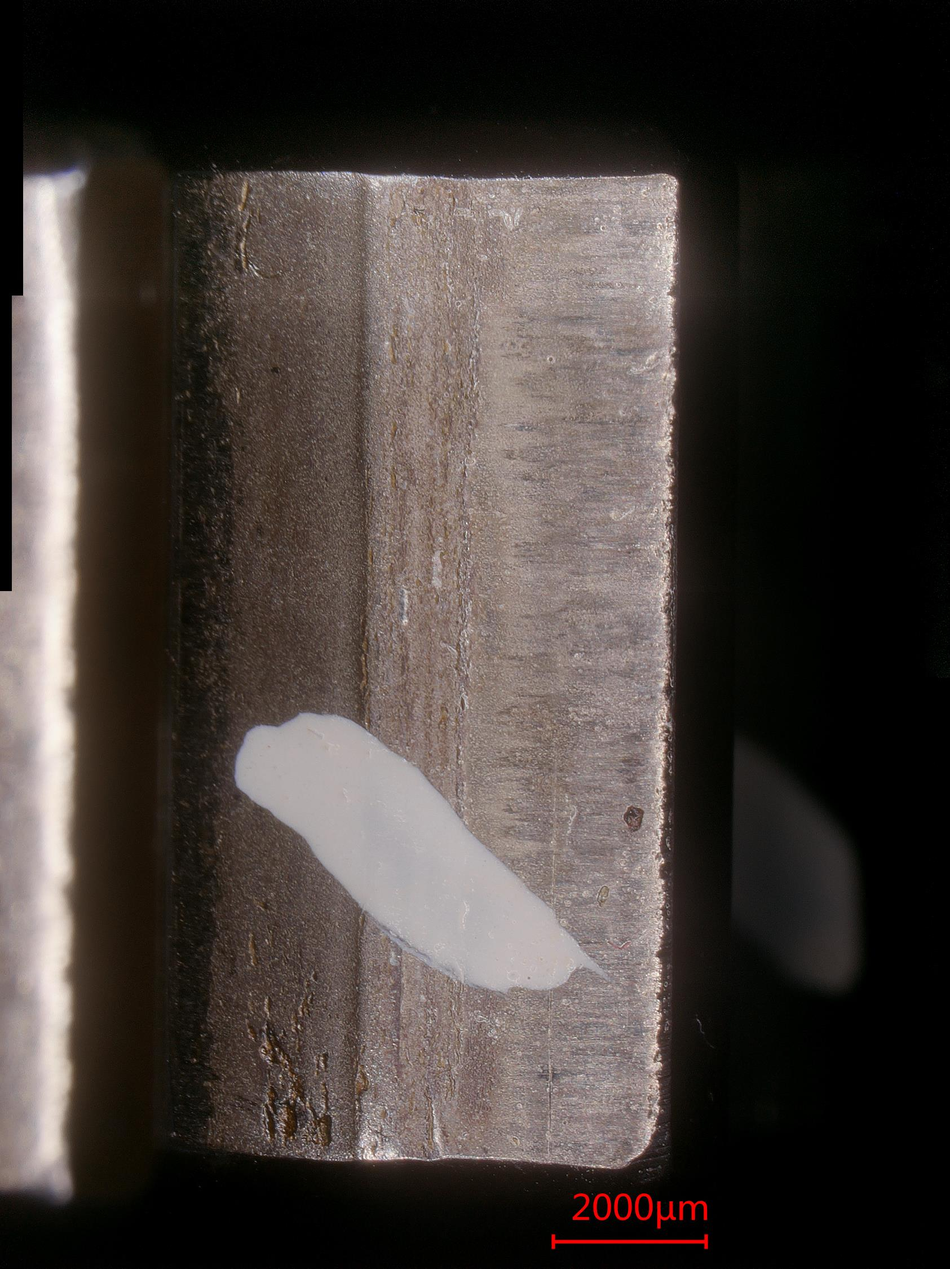Abrasion: (160, 170, 682, 1164)
